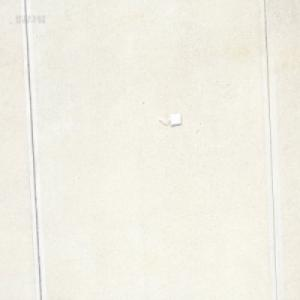LuggageTag: (158, 112, 181, 128)
